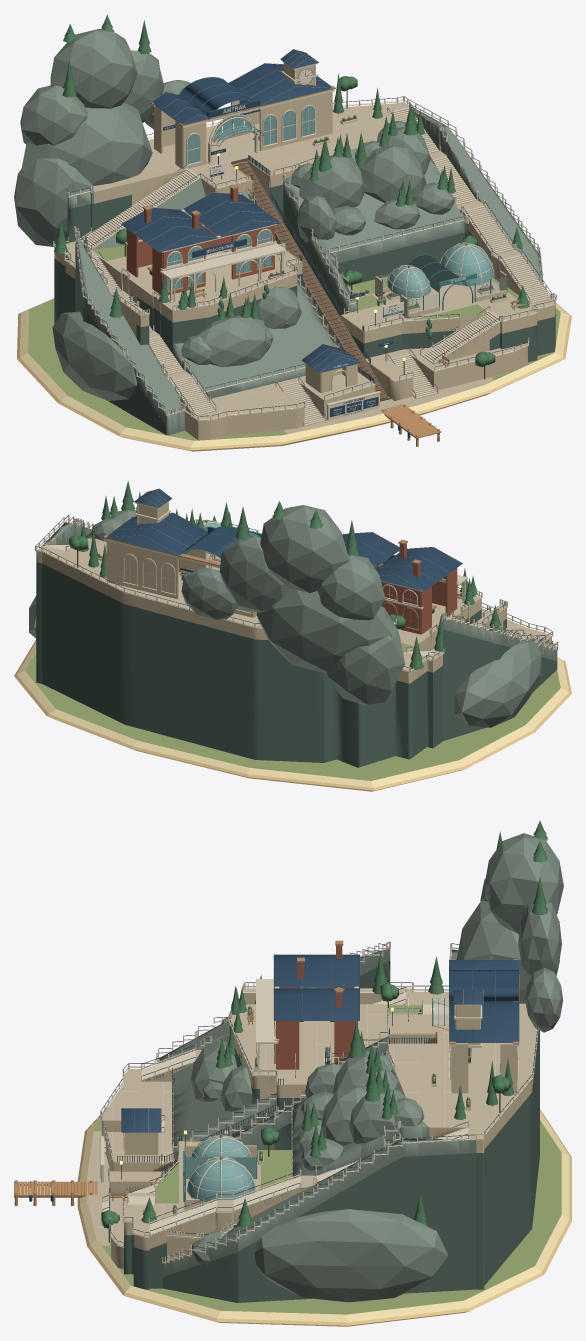
File: experience.glb
3 renders of one model, top to bottom at view 1: azimuth 30°, elevation 25°; view 2: azimuth 150°, elevation 25°; view 3: azimuth 270°, elevation 25°, orthographic. The views are drawn at different scales.
Parts seen in each view (by area): view 1: static_junction_sandstone, static_junction_rock, static_junction_paving, static_junction_rockDark, static_junction_stone, district_amtrak_junction_stone, occluder_summit_rock_ridge-root_junction_rock, district_amtrak_junction_leaf, static_junction_lawn, static_sand, occluder_summit_rock_main-peak_junction_rock, occluder_junction_workshop_roof_junction_navy (+36 smaller); view 2: static_junction_rockDark, static_junction_lawn, occluder_summit_rock_ridge-root_junction_rock, occluder_summit_rock_main-peak_junction_rock, static_sand, occluder_summit_rock_west-coast_junction_rock, static_junction_sandstone, occluder_summit_rock_west-ledge_junction_rock, static_junction_paving, occluder_junction_terminal_walls_junction_sandstone, occluder_summit_rock_peak-right_junction_rock, occluder_junction_workshop_roof_junction_navy (+14 smaller); view 3: static_junction_rockDark, static_junction_paving, static_junction_rock, occluder_summit_rock_east-coast_junction_rock, static_junction_lawn, static_junction_sandstone, district_amtrak_junction_stone, static_sand, district_amtrak_junction_leaf, occluder_junction_workshop_roof_junction_navy, occluder_summit_rock_main-peak_junction_rock, static_junction_stone (+25 smaller).
Part boxes in pixels (bbox=[...]): static_junction_sandstone: bbox=[54, 108, 555, 440]; static_junction_rock: bbox=[67, 106, 541, 435]; static_junction_paving: bbox=[65, 101, 554, 433]; static_junction_rockDark: bbox=[54, 184, 555, 434]; static_junction_stone: bbox=[71, 106, 550, 425]; district_amtrak_junction_stone: bbox=[53, 96, 556, 426]; occluder_summit_rock_ridge-root_junction_rock: bbox=[21, 102, 152, 185]; district_amtrak_junction_leaf: bbox=[54, 15, 529, 339]; static_junction_lawn: bbox=[28, 245, 560, 440]; static_sand: bbox=[19, 298, 568, 447]; occluder_summit_rock_main-peak_junction_rock: bbox=[50, 28, 137, 108]; occluder_junction_workshop_roof_junction_navy: bbox=[121, 192, 280, 252]; static_junction_rockDark: bbox=[36, 562, 557, 767]; static_junction_lawn: bbox=[25, 643, 560, 780]; occluder_summit_rock_ridge-root_junction_rock: bbox=[256, 588, 392, 673]; occluder_summit_rock_main-peak_junction_rock: bbox=[260, 505, 349, 592]; static_sand: bbox=[17, 643, 568, 787]; occluder_summit_rock_west-coast_junction_rock: bbox=[454, 640, 541, 727]; static_junction_sandstone: bbox=[36, 538, 551, 683]; occluder_summit_rock_west-ledge_junction_rock: bbox=[326, 607, 405, 704]; static_junction_paving: bbox=[37, 538, 551, 671]; occluder_junction_terminal_walls_junction_sandstone: bbox=[106, 541, 256, 617]; occluder_summit_rock_peak-right_junction_rock: bbox=[219, 536, 290, 612]; occluder_junction_workshop_roof_junction_navy: bbox=[342, 532, 462, 591]; static_junction_rockDark: bbox=[124, 961, 539, 1302]; static_junction_paving: bbox=[87, 988, 537, 1247]; static_junction_rock: bbox=[158, 948, 476, 1276]; occluder_summit_rock_east-coast_junction_rock: bbox=[254, 1209, 448, 1302]; static_junction_lawn: bbox=[94, 1005, 561, 1314]; static_junction_sandstone: bbox=[101, 993, 538, 1269]; district_amtrak_junction_stone: bbox=[100, 941, 538, 1264]; static_sand: bbox=[80, 1111, 569, 1322]; district_amtrak_junction_leaf: bbox=[141, 820, 547, 1227]; occluder_junction_workshop_roof_junction_navy: bbox=[274, 954, 359, 1020]; occluder_summit_rock_main-peak_junction_rock: bbox=[484, 833, 563, 934]; static_junction_stone: bbox=[95, 988, 520, 1237].
Bounding box in the file's own units: 78 × 43.18 × 70.
